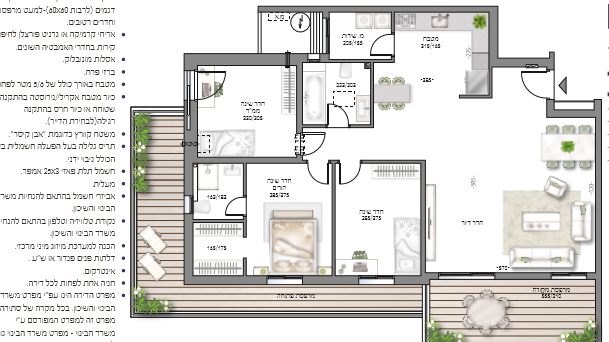door: (515, 67, 544, 98), (306, 131, 331, 155), (367, 32, 390, 58), (337, 166, 363, 187), (306, 165, 328, 185), (221, 197, 241, 217)
wall: (595, 100, 603, 316), (257, 5, 496, 12), (184, 53, 284, 65), (185, 214, 195, 283)
